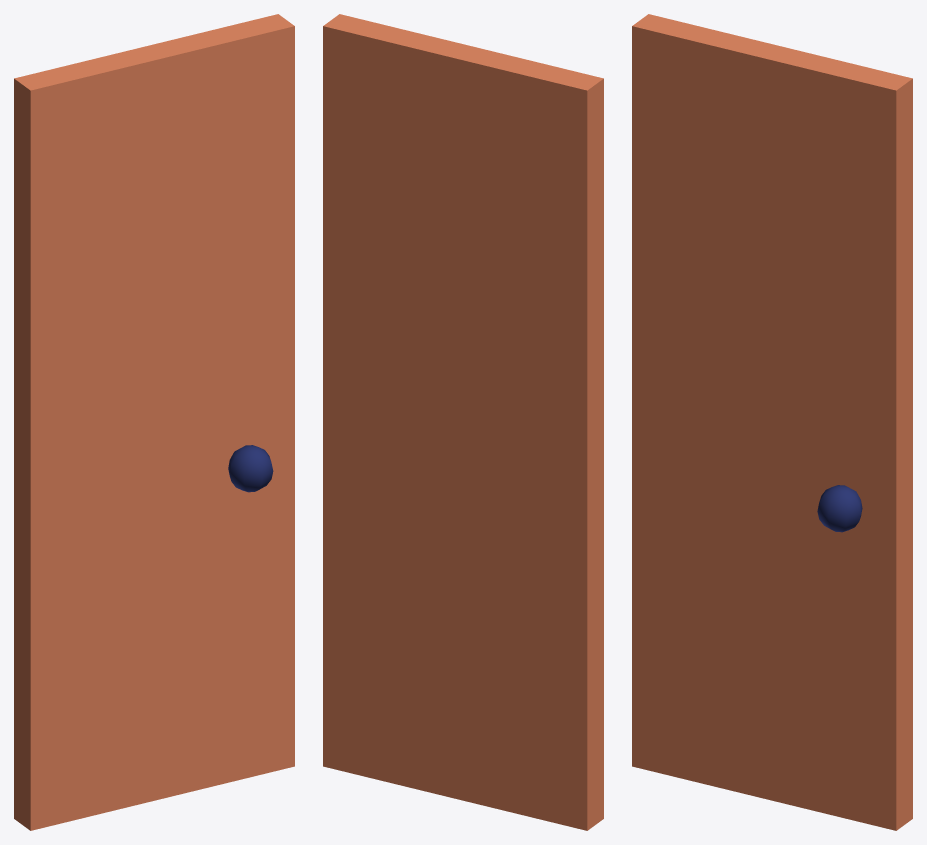
Rendered from CLOSET LEFT DOOR.fbx.
3 views of the same model, side by side, from view 1: azimuth 30°, elevation 25°; view 2: azimuth 150°, elevation 25°; view 3: azimuth 330°, elevation 25° (orthographic).
Parts seen in each view (by area): view 1: Top door left, Sphere.002; view 2: Top door left; view 3: Top door left, Sphere.002.
Boxes of the visible parts, box(x1,y1,x2,y2) form: Top door left: box(14, 14, 294, 830); Sphere.002: box(228, 445, 273, 492); Top door left: box(323, 14, 603, 830); Top door left: box(632, 14, 912, 830); Sphere.002: box(817, 485, 862, 532).
Bounding box in the file's own units: 194 × 520 × 43.47.
